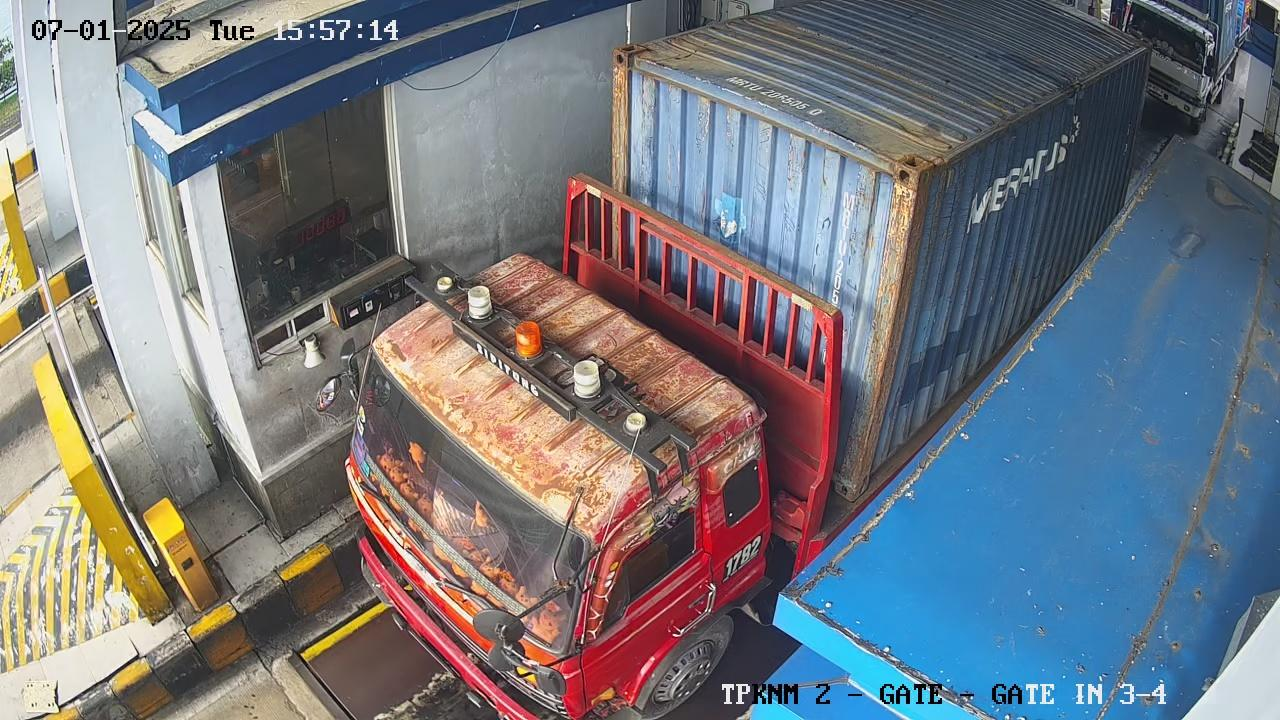Container_ID: (726, 75, 823, 123)
Container_ID_Vertikal: (825, 185, 865, 305)
